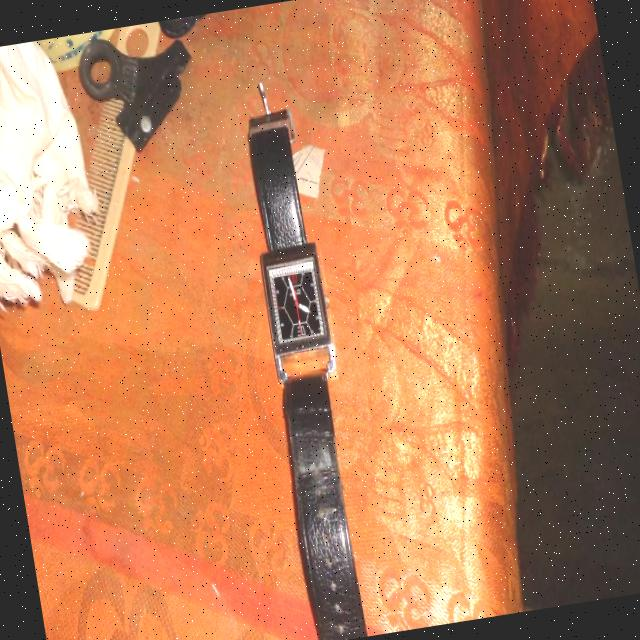Wrist watch: (208, 72, 382, 640)
